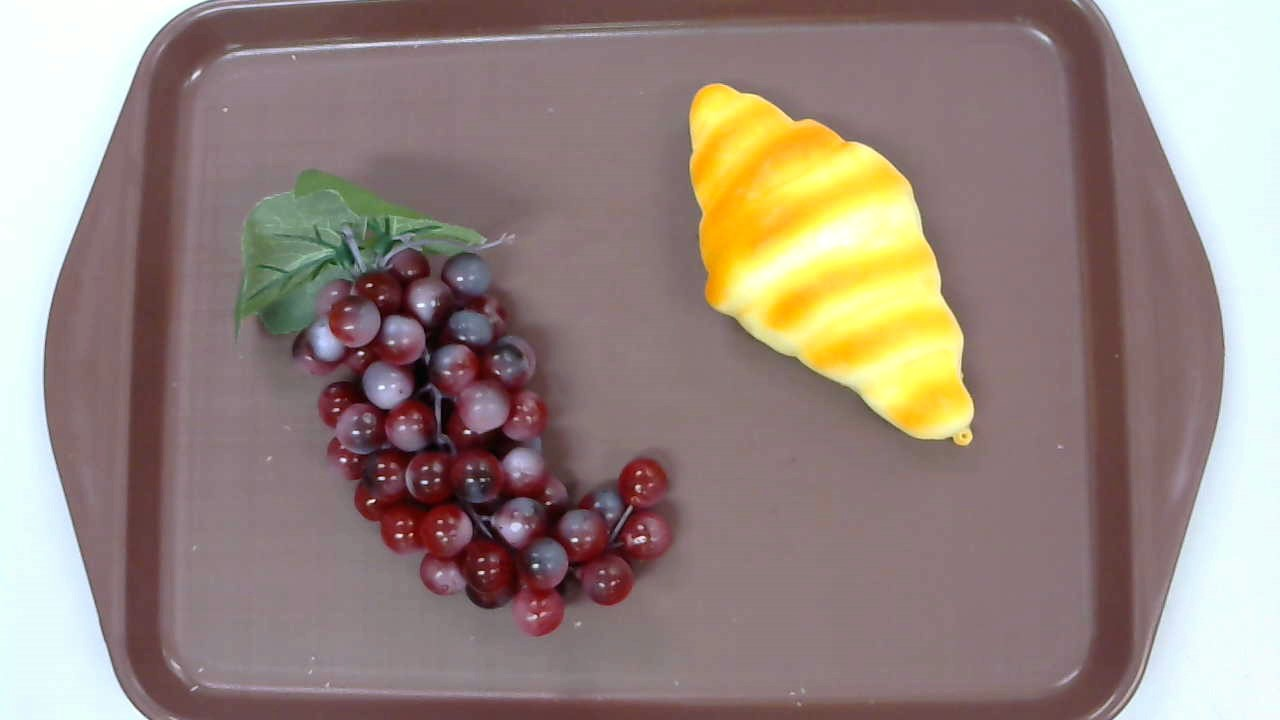croissant: (688, 82, 973, 447)
grape: (233, 168, 673, 639)
